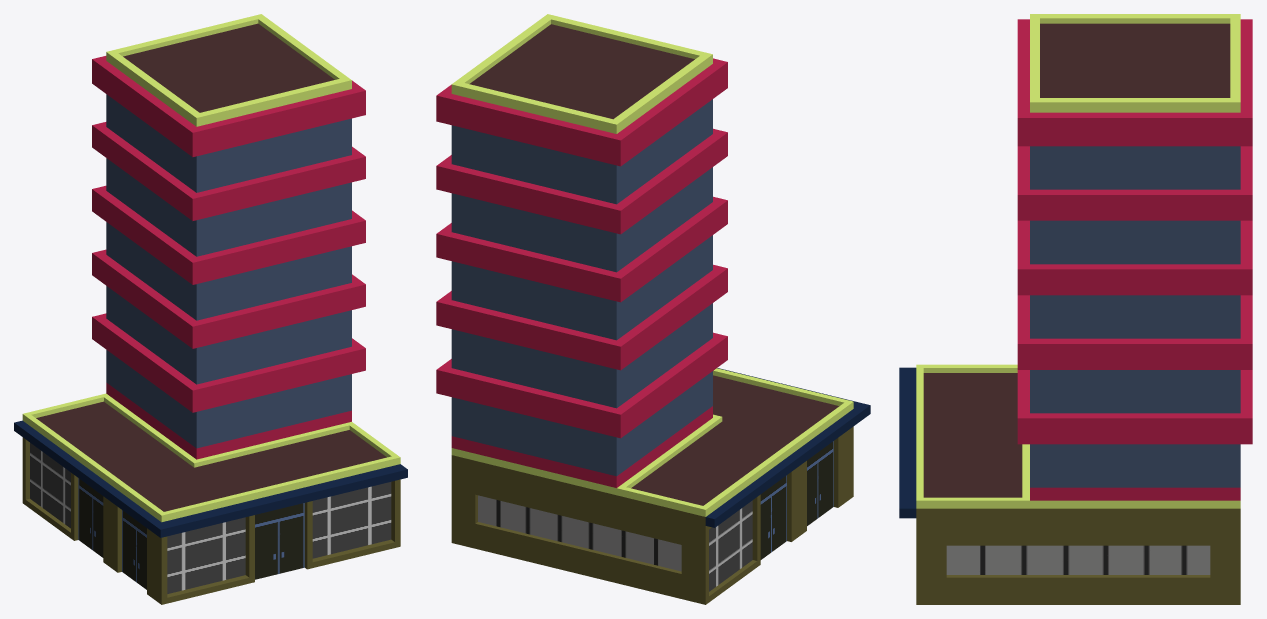
The model's file is building24c.FBX.
3 renders of one model, left to right at view 1: azimuth 30°, elevation 25°; view 2: azimuth 150°, elevation 25°; view 3: azimuth 270°, elevation 25°, orthographic. The views are drawn at different scales.
Visible parts, largest first — view 1: building24c; view 2: building24c; view 3: building24c.
Part boxes in pixels (box(x1,y1,x2,y2)): building24c: box(14, 14, 407, 604); building24c: box(436, 14, 870, 604); building24c: box(899, 14, 1252, 604).
Size of the model in its own units: 21.57 by 34.64 by 22.09.
